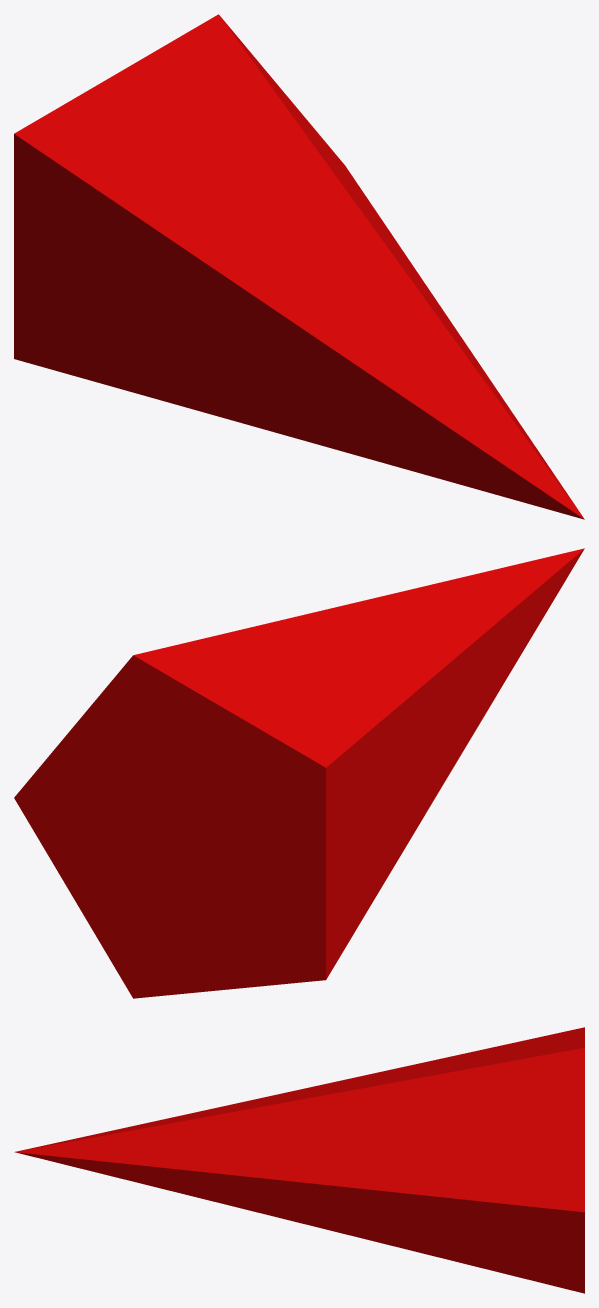
File: bird.fbx
3 views of the same model, one above another, from view 1: azimuth 30°, elevation 25°; view 2: azimuth 150°, elevation 25°; view 3: azimuth 270°, elevation 25° (orthographic). The views are drawn at different scales.
Visible parts, largest first — view 1: pCone1; view 2: pCone1; view 3: pCone1.
Part boxes in pixels (x1,y1,x2,y2): pCone1: (14, 14, 584, 519); pCone1: (14, 548, 584, 998); pCone1: (14, 1027, 584, 1293).
Size of the model in its own units: 0.9045 by 0.9511 by 2.
